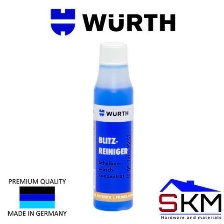cleaning_solution: (89, 38, 136, 213)
